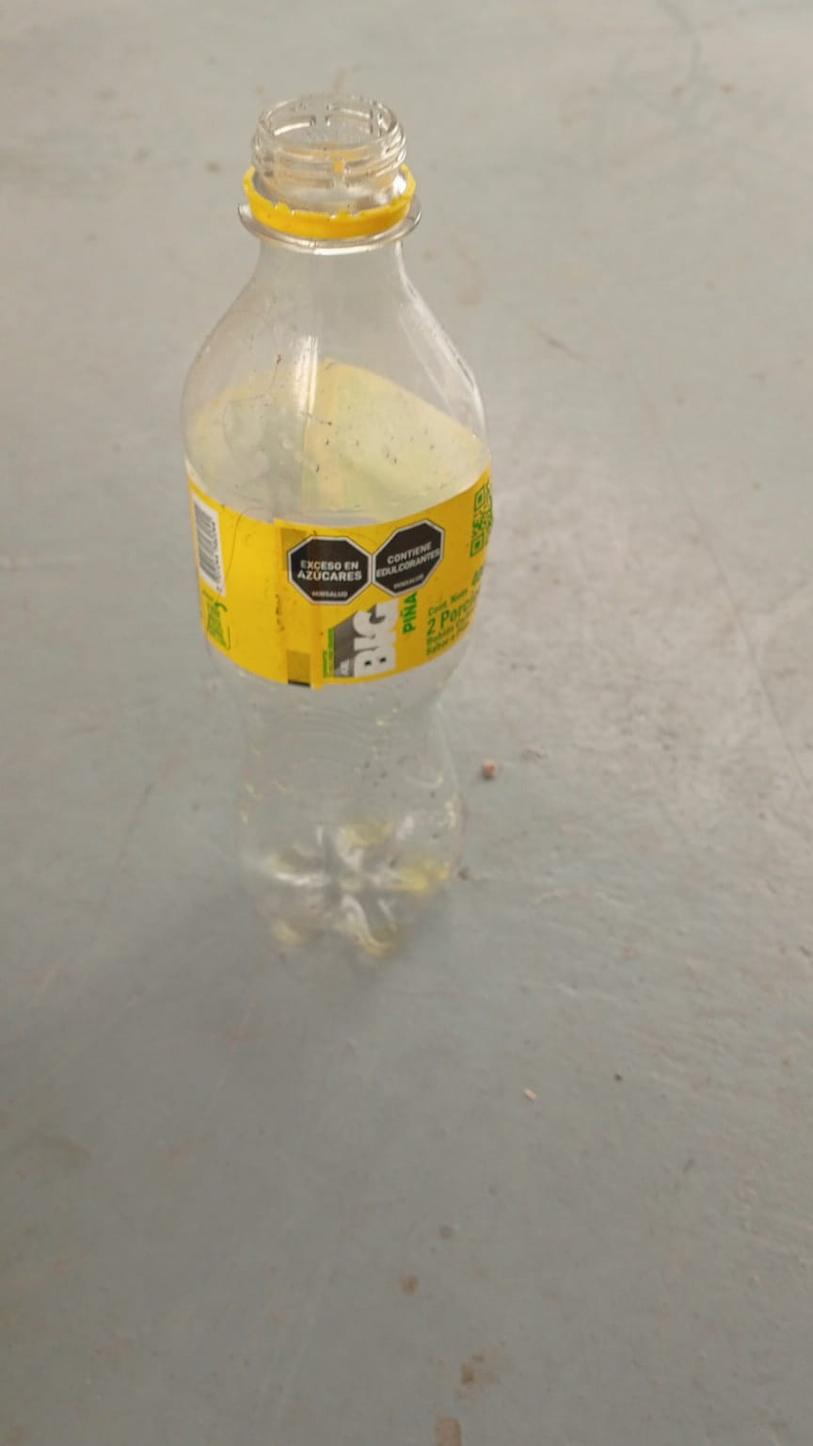Plastico: (181, 93, 496, 960)
